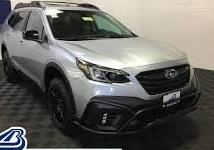SUV: (3, 4, 200, 136), (3, 4, 195, 134)
